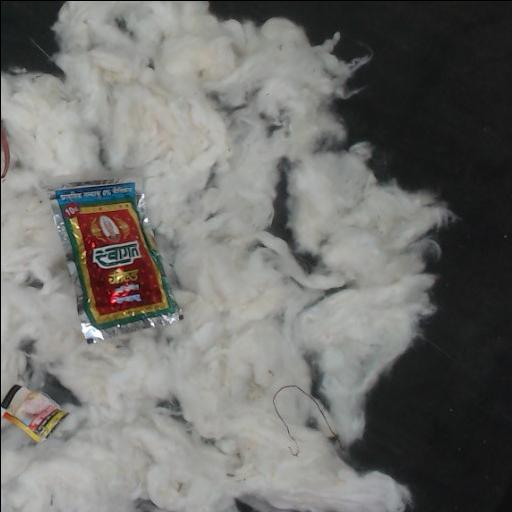conveyor belt: (211, 1, 512, 512), (1, 1, 61, 75), (269, 169, 293, 247), (297, 253, 316, 270)
cotton: (1, 1, 454, 512)
packet: (51, 182, 182, 343), (1, 384, 67, 441)
thread: (272, 384, 340, 456)
